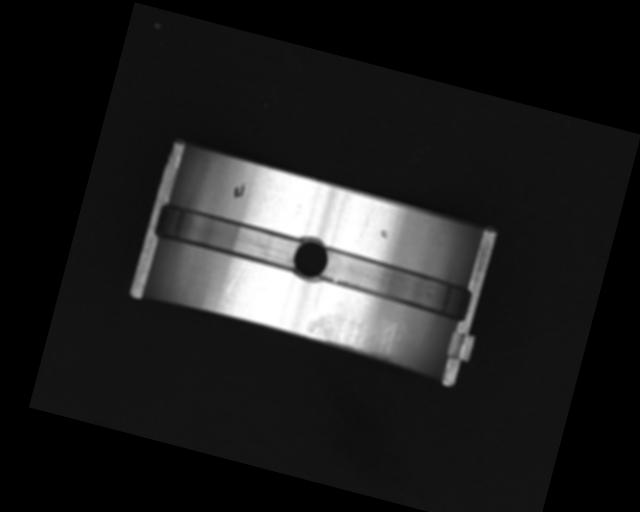blot: (232, 181, 247, 201)
bruise: (379, 229, 390, 239)
gap: (313, 245, 475, 323), (150, 200, 304, 274)
hole: (287, 233, 333, 287)
nick: (224, 257, 245, 298), (359, 207, 373, 239)
scratch: (302, 301, 405, 363)
